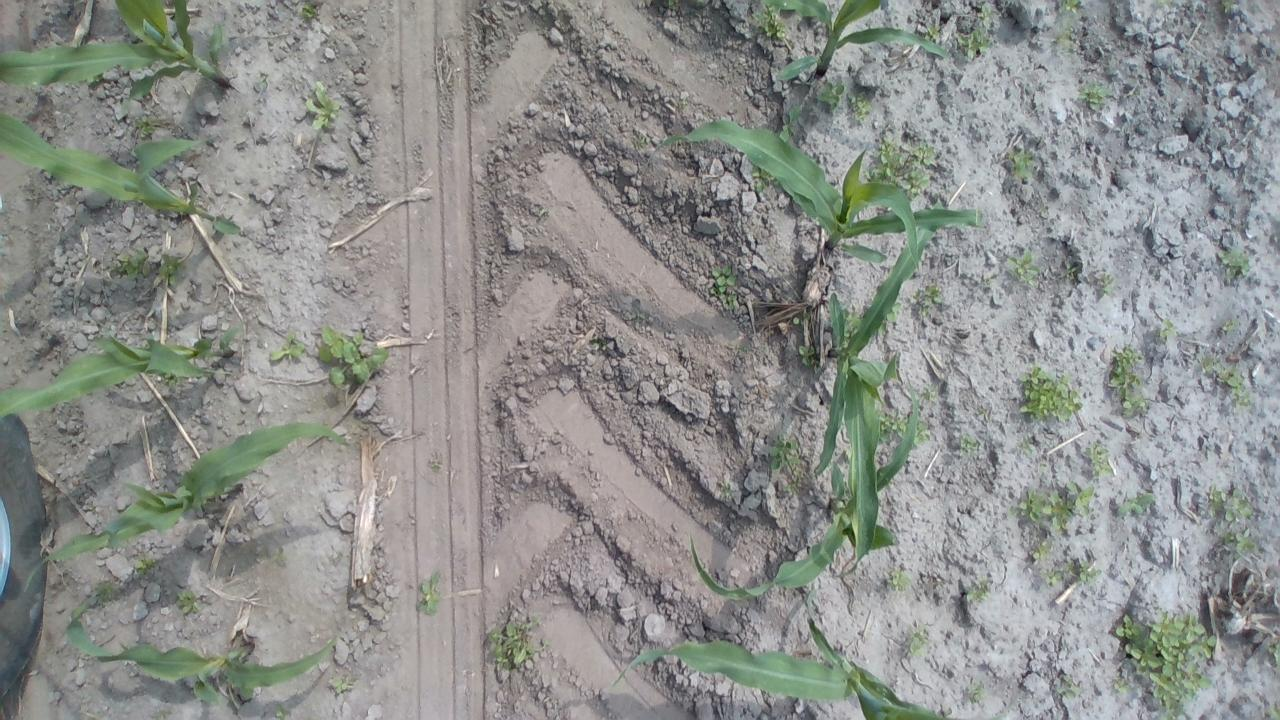Maize: (22, 420, 350, 593), (632, 116, 980, 265), (688, 378, 918, 600), (813, 199, 945, 575), (613, 588, 952, 720), (66, 583, 338, 705), (0, 111, 241, 236), (1, 1, 232, 121), (0, 316, 244, 420), (762, 0, 949, 81)
Weeds: (1115, 608, 1219, 720), (863, 128, 935, 195), (318, 324, 391, 388), (1010, 478, 1096, 528), (1192, 346, 1252, 414), (1018, 365, 1086, 425), (488, 614, 552, 674), (1105, 345, 1149, 417), (1200, 482, 1254, 520), (306, 81, 344, 133), (1039, 557, 1103, 586), (1080, 437, 1116, 482), (1217, 244, 1252, 284), (107, 248, 152, 278), (1004, 251, 1042, 286), (266, 328, 306, 360), (1113, 491, 1158, 519), (754, 3, 788, 38), (416, 570, 443, 614), (768, 432, 799, 470), (904, 618, 932, 659), (1210, 524, 1254, 550), (957, 28, 991, 60), (158, 252, 188, 288), (846, 89, 874, 127), (910, 283, 941, 316), (1076, 82, 1108, 112), (1006, 146, 1034, 180), (964, 572, 993, 604), (818, 81, 846, 114), (778, 106, 802, 142), (879, 405, 908, 434), (710, 264, 734, 296), (957, 430, 981, 459), (1056, 675, 1084, 699), (1154, 316, 1178, 342), (886, 569, 912, 593), (1050, 24, 1074, 49), (176, 589, 200, 614), (844, 308, 862, 336), (134, 113, 153, 139), (329, 674, 355, 693), (967, 680, 988, 703), (133, 554, 154, 577), (1030, 538, 1054, 558), (92, 581, 116, 601), (751, 168, 770, 192), (1014, 436, 1036, 456), (784, 470, 804, 492), (298, 0, 318, 22), (978, 2, 996, 26), (1098, 271, 1116, 295), (914, 419, 930, 446), (922, 22, 942, 42), (918, 385, 938, 405), (1062, 261, 1081, 282), (797, 346, 815, 367), (630, 297, 646, 319), (718, 481, 736, 500), (1219, 318, 1240, 334), (1114, 676, 1132, 694), (718, 294, 738, 310), (632, 132, 648, 152), (254, 71, 270, 91), (270, 546, 288, 562), (591, 340, 610, 354), (429, 452, 443, 471), (727, 343, 751, 354), (1057, 0, 1080, 11), (162, 374, 183, 386), (274, 703, 288, 720), (153, 709, 174, 720), (1221, 0, 1236, 15), (1153, 0, 1177, 9), (792, 312, 809, 324), (1270, 642, 1280, 662), (982, 274, 998, 286), (974, 406, 990, 417), (879, 322, 892, 335), (86, 78, 105, 86), (1270, 704, 1280, 718), (893, 302, 904, 312), (679, 98, 690, 108), (887, 313, 897, 323), (1037, 462, 1049, 470), (667, 0, 680, 6), (845, 450, 851, 461), (698, 0, 708, 5), (88, 505, 95, 511)
